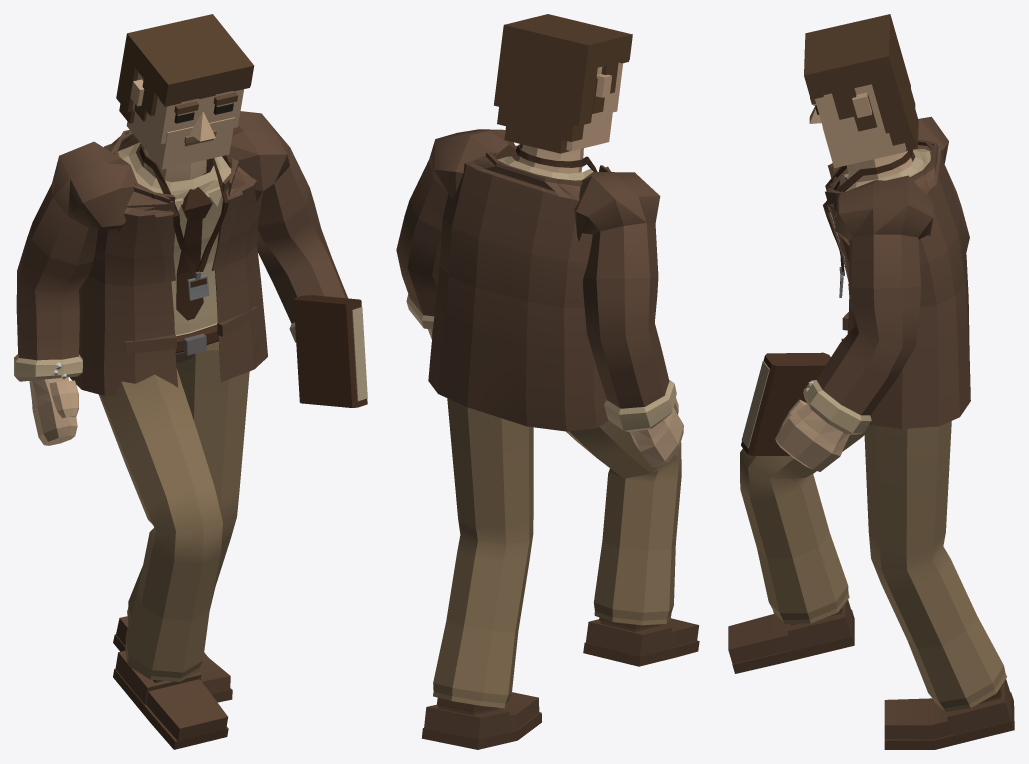
Rendered from school-teacher-8b8bfc__walk3.glb.
3 views of the same model, side by side, from view 1: azimuth 30°, elevation 25°; view 2: azimuth 150°, elevation 25°; view 3: azimuth 270°, elevation 25° (orthographic).
Parts seen in each view (by area): view 1: school-teacher-8b8bfc__walk3; view 2: school-teacher-8b8bfc__walk3; view 3: school-teacher-8b8bfc__walk3.
Part boxes in pixels (x1,y1,x2,y2): school-teacher-8b8bfc__walk3: [14, 14, 367, 749]; school-teacher-8b8bfc__walk3: [396, 14, 699, 749]; school-teacher-8b8bfc__walk3: [728, 14, 1014, 749].
Size of the model in its own units: 0.7832 by 1.72 by 0.6492.
